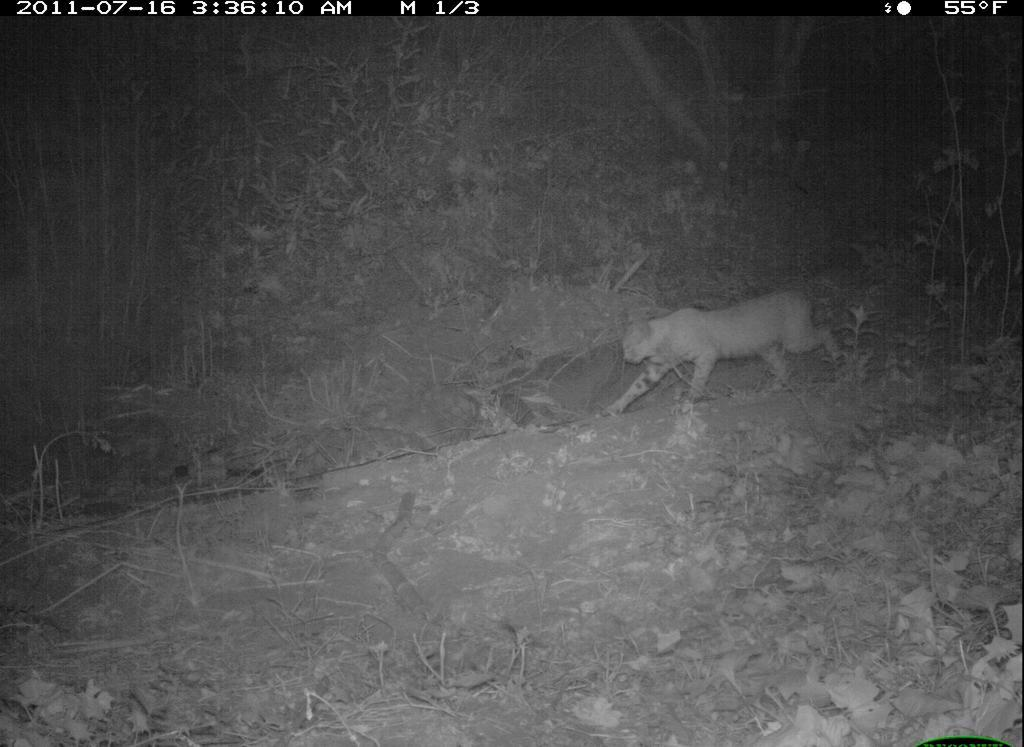bobcat: (598, 287, 852, 420)
